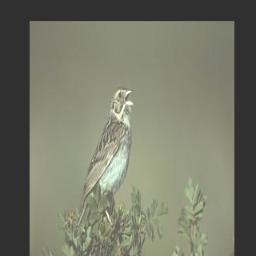Sparrow: (74, 78, 135, 244)
